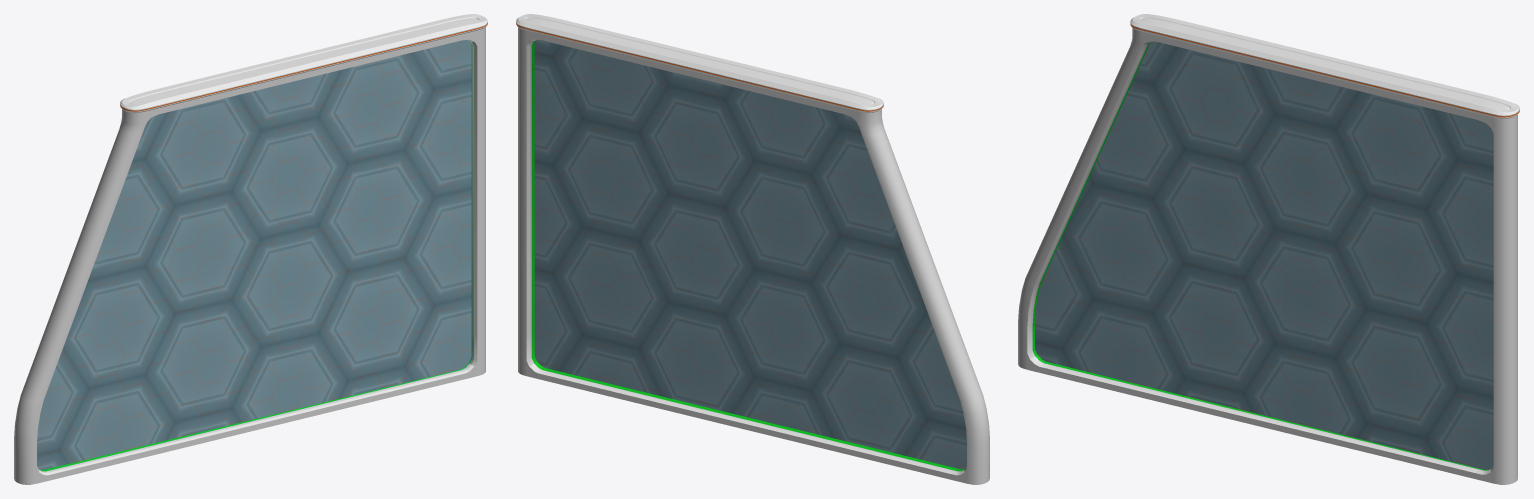
Rendered from sm_wall_cornervarient_screen_fixed.fbx.
3 views of the same model, side by side, from view 1: azimuth 30°, elevation 25°; view 2: azimuth 150°, elevation 25°; view 3: azimuth 330°, elevation 25° (orthographic). The views are drawn at different scales.
Visible parts, largest first — view 1: sm_wall_corner_screen.005; view 2: sm_wall_corner_screen.005; view 3: sm_wall_corner_screen.005.
Boxes of the visible parts, box(x1,y1,x2,y2) form: sm_wall_corner_screen.005: box(14, 14, 487, 484); sm_wall_corner_screen.005: box(516, 14, 989, 484); sm_wall_corner_screen.005: box(1018, 14, 1519, 484).
Bounding box in the file's own units: 1052 × 755 × 60.64.
